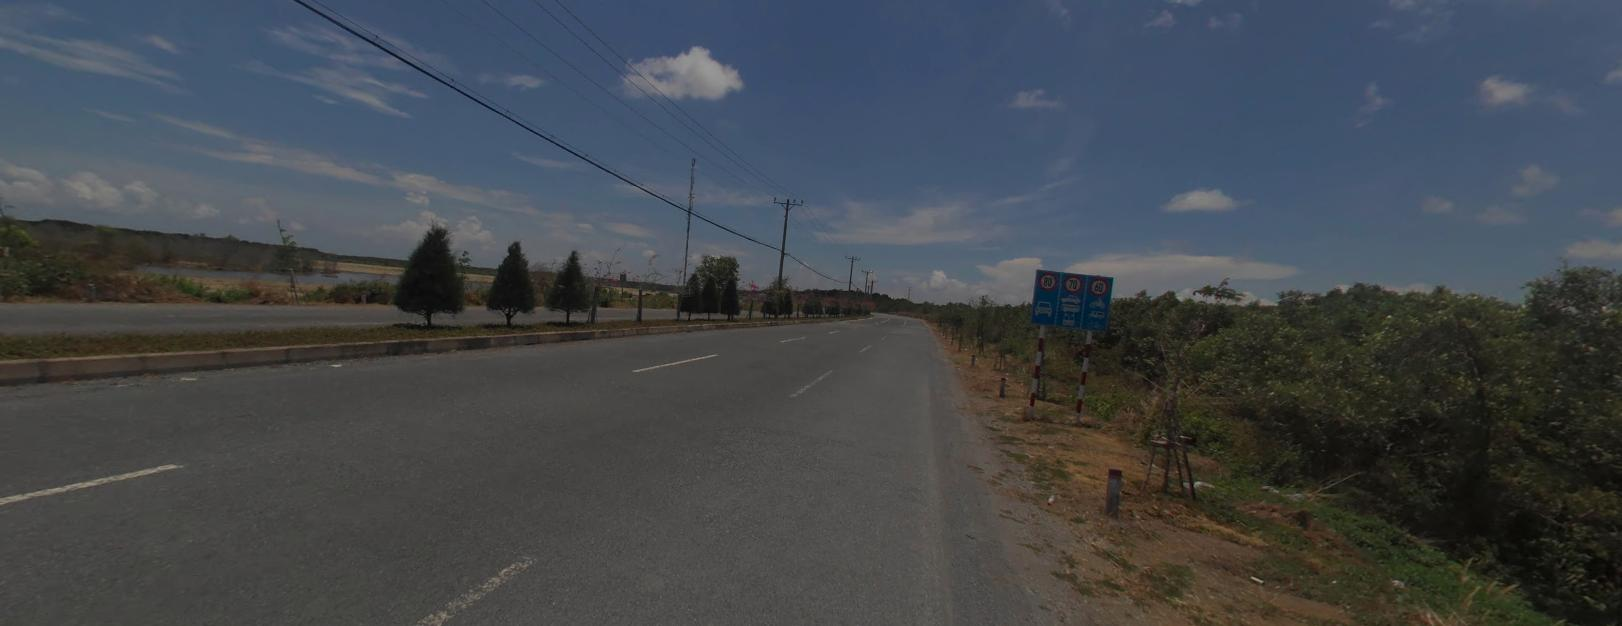Gioi han toc do: (1090, 274, 1109, 294), (1062, 272, 1081, 291), (1038, 269, 1056, 287)
